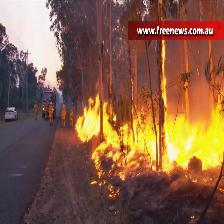fire: (74, 40, 224, 197)
